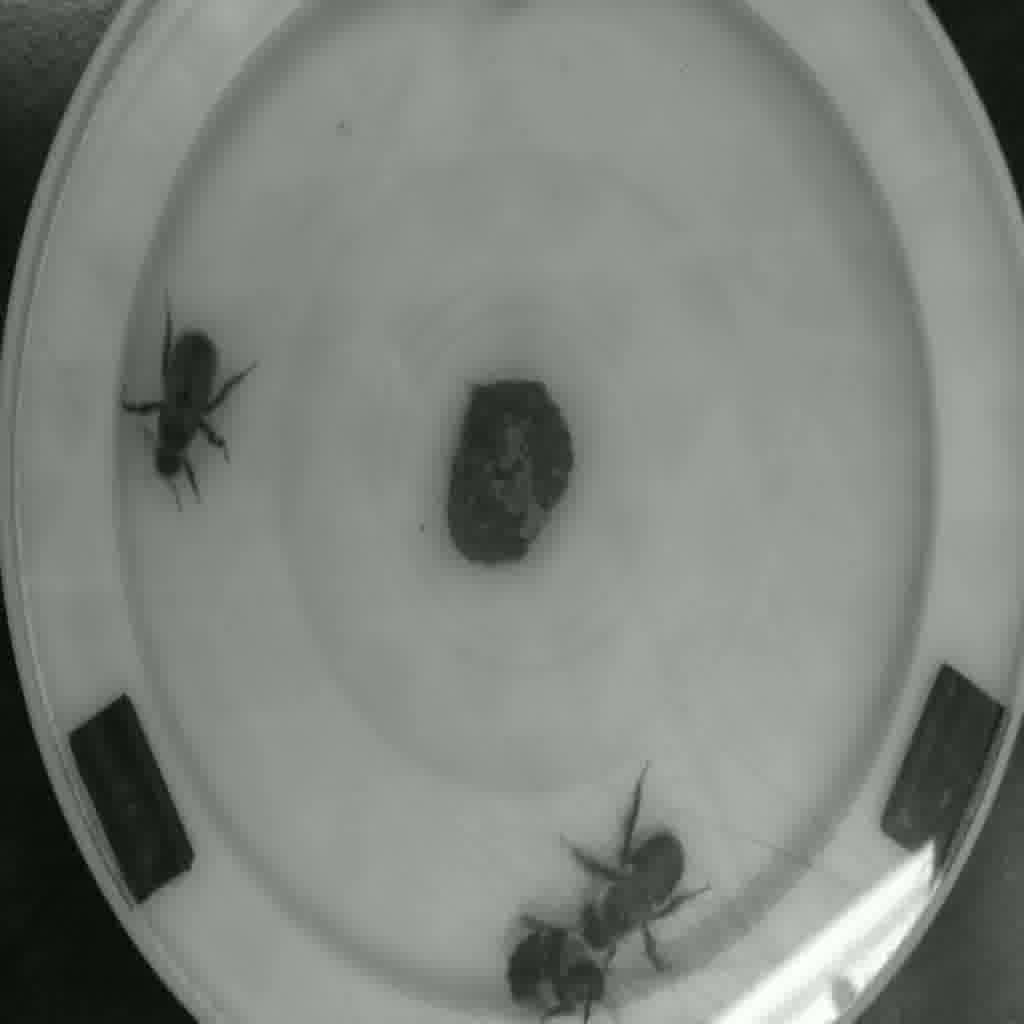bee: (116, 316, 255, 505), (557, 813, 699, 955), (494, 917, 619, 1024)
